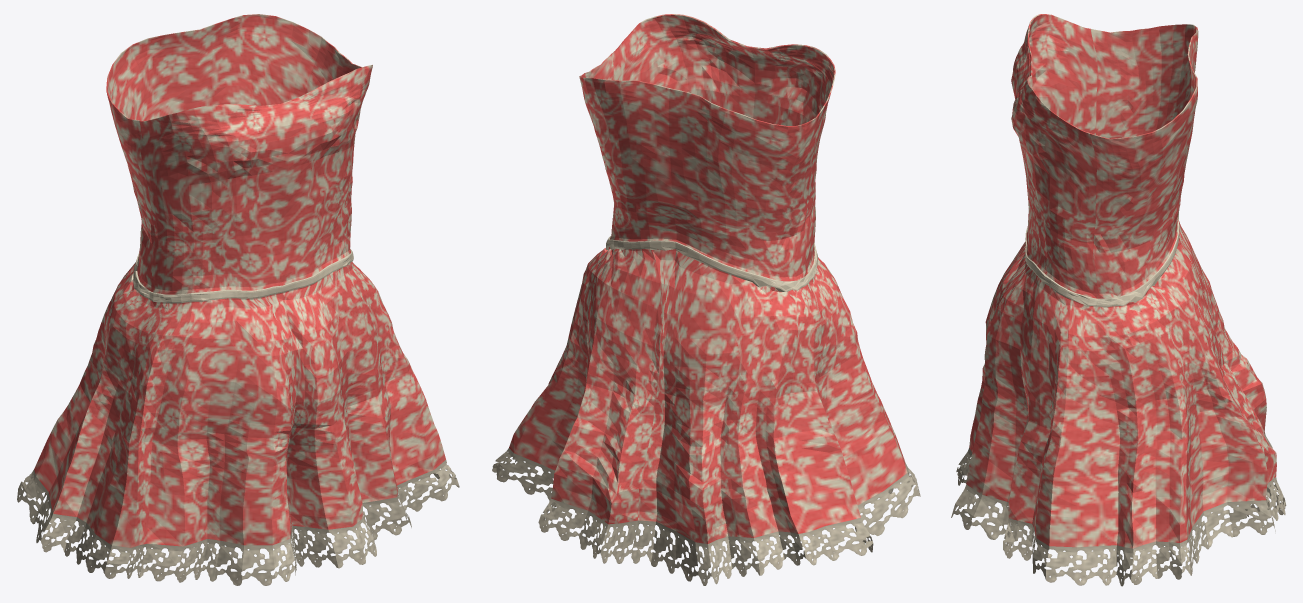
The model's file is mhw_toigo_bodice_dress_with_lace_ruffle_skirt.glb.
The picture shows the model from 3 angles, left to right: view 1: azimuth 30°, elevation 25°; view 2: azimuth 150°, elevation 25°; view 3: azimuth 270°, elevation 25°; orthographic projection. The views are drawn at different scales.
Visible parts, largest first — view 1: mhw_toigo_bodice_dress_with_lace_ruffle_skirt; view 2: mhw_toigo_bodice_dress_with_lace_ruffle_skirt; view 3: mhw_toigo_bodice_dress_with_lace_ruffle_skirt.
Part boxes in pixels (<box>): mhw_toigo_bodice_dress_with_lace_ruffle_skirt: <box>17,14,459,585</box>; mhw_toigo_bodice_dress_with_lace_ruffle_skirt: <box>492,14,920,585</box>; mhw_toigo_bodice_dress_with_lace_ruffle_skirt: <box>951,14,1286,586</box>.
Size of the model in its own units: 0.5911 by 0.7107 by 0.4687.
1 material, 1 textured.
